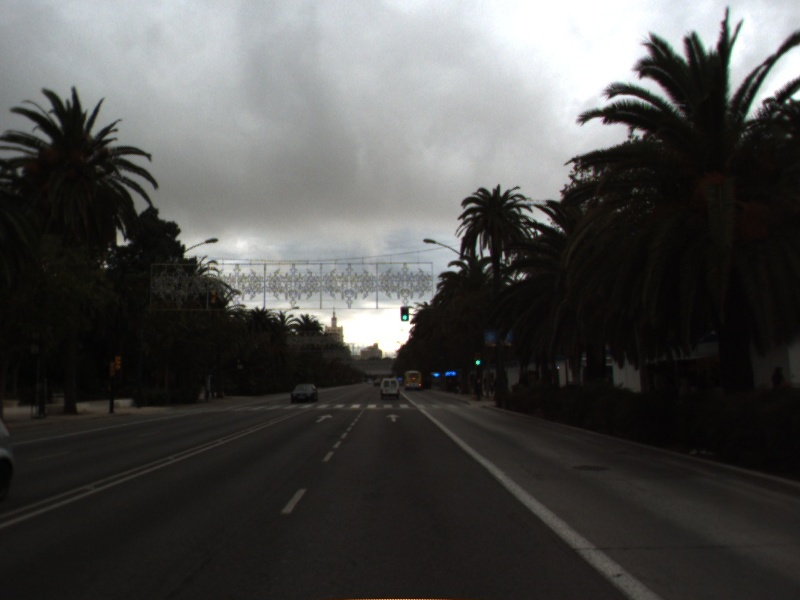STRAIGHT: (314, 412, 335, 424), (384, 412, 402, 424)
